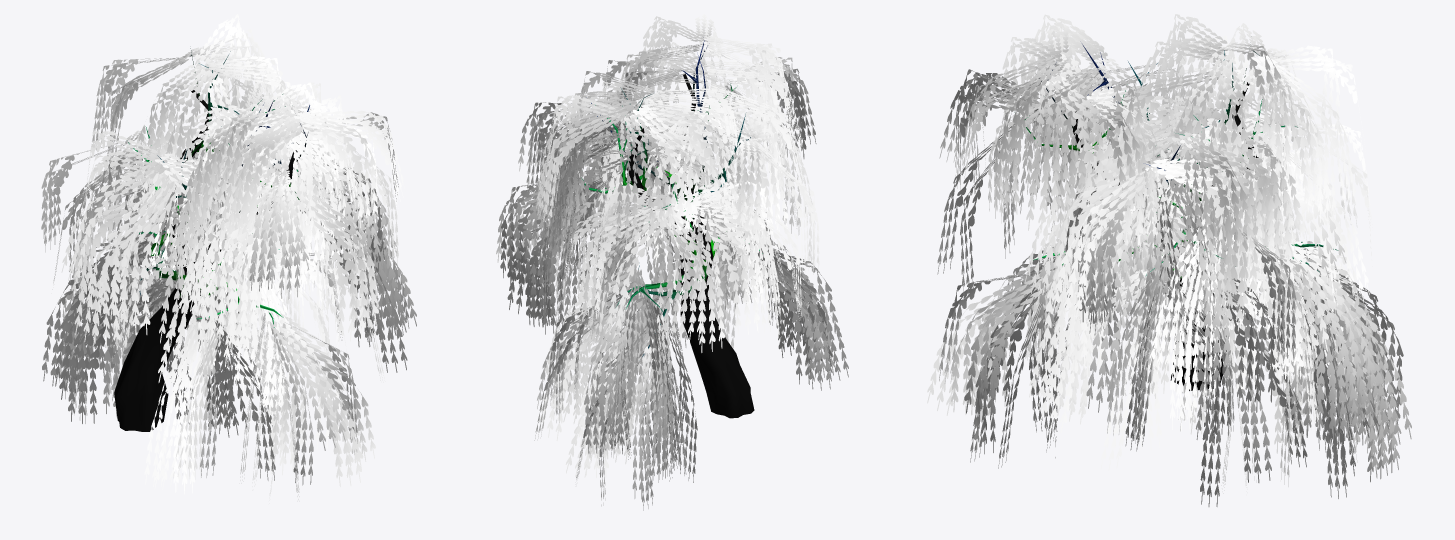
Rendered from WillowTree.fbx.
3 renders of one model, left to right at view 1: azimuth 30°, elevation 25°; view 2: azimuth 150°, elevation 25°; view 3: azimuth 270°, elevation 25°, orthographic. The views are drawn at different scales.
Parts seen in each view (by area): view 1: Tree_1, Tree_0; view 2: Tree_1, Tree_0; view 3: Tree_1, Tree_0.
Boxes of the visible parts, x1,y1,x2,y2 form: Tree_1: (41, 14, 416, 503); Tree_0: (114, 48, 309, 431); Tree_1: (496, 14, 848, 510); Tree_0: (581, 40, 762, 418); Tree_1: (927, 14, 1411, 506); Tree_0: (1014, 44, 1338, 390).
Bounding box in the file's own units: 401 × 479 × 484.
